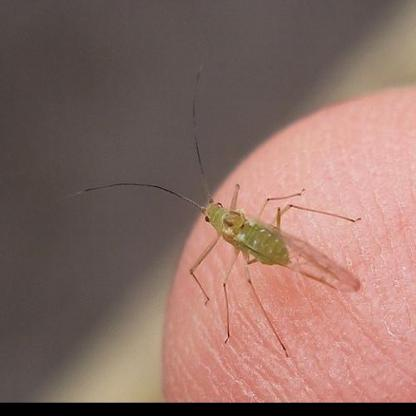aphid: (161, 134, 306, 314)
